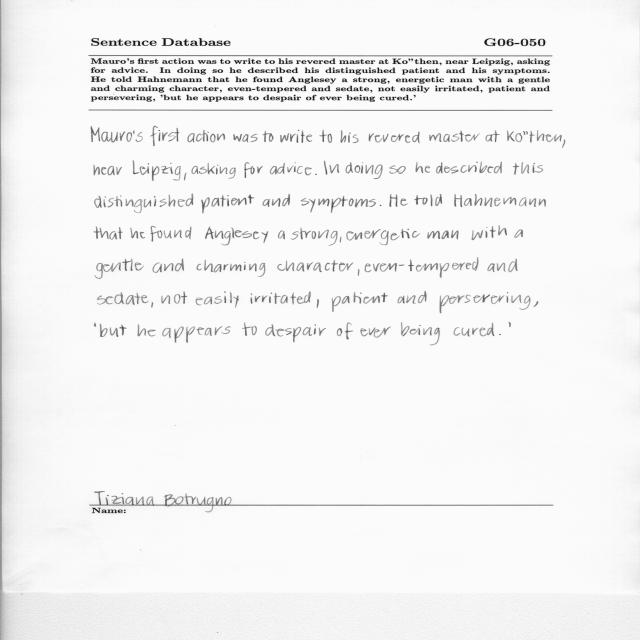word: (365, 258, 479, 278), (440, 292, 531, 313), (95, 194, 193, 213), (205, 227, 268, 246), (454, 194, 546, 207), (346, 229, 420, 245), (197, 260, 266, 277), (162, 326, 231, 343), (332, 292, 388, 312), (265, 324, 326, 342), (95, 258, 144, 279), (201, 195, 254, 214), (318, 196, 376, 213), (132, 161, 181, 181), (277, 260, 353, 272), (401, 323, 440, 346), (91, 126, 143, 143), (291, 228, 338, 246), (250, 292, 311, 305), (436, 162, 502, 174), (507, 130, 562, 143), (195, 292, 239, 308), (97, 292, 149, 305), (191, 163, 236, 178), (346, 162, 383, 179), (151, 226, 192, 241), (369, 132, 420, 144), (429, 130, 480, 142), (151, 126, 180, 146), (270, 163, 312, 176), (454, 323, 495, 336), (471, 226, 507, 240), (152, 258, 184, 273), (188, 130, 225, 142), (280, 130, 312, 143), (487, 259, 518, 272), (513, 162, 543, 175), (94, 227, 123, 240), (398, 291, 427, 304), (262, 194, 290, 207), (100, 324, 127, 337), (162, 291, 188, 304), (414, 194, 442, 206), (361, 327, 391, 338), (428, 230, 459, 240), (94, 165, 122, 176), (244, 162, 263, 178), (337, 323, 353, 340), (389, 194, 408, 207), (341, 130, 359, 143), (301, 198, 316, 213), (138, 325, 156, 337), (324, 161, 339, 175), (242, 322, 257, 336), (233, 134, 258, 142), (320, 130, 333, 143), (486, 131, 501, 142), (416, 162, 431, 173), (130, 228, 145, 239), (389, 165, 406, 174), (263, 131, 274, 142), (514, 229, 523, 238), (278, 231, 285, 240), (534, 301, 539, 307), (562, 139, 565, 148), (184, 173, 187, 181), (317, 299, 319, 308), (358, 269, 360, 276), (340, 237, 342, 243), (151, 302, 153, 307), (509, 323, 511, 328), (95, 323, 97, 327), (315, 174, 317, 175), (380, 205, 382, 206), (499, 334, 501, 335)
